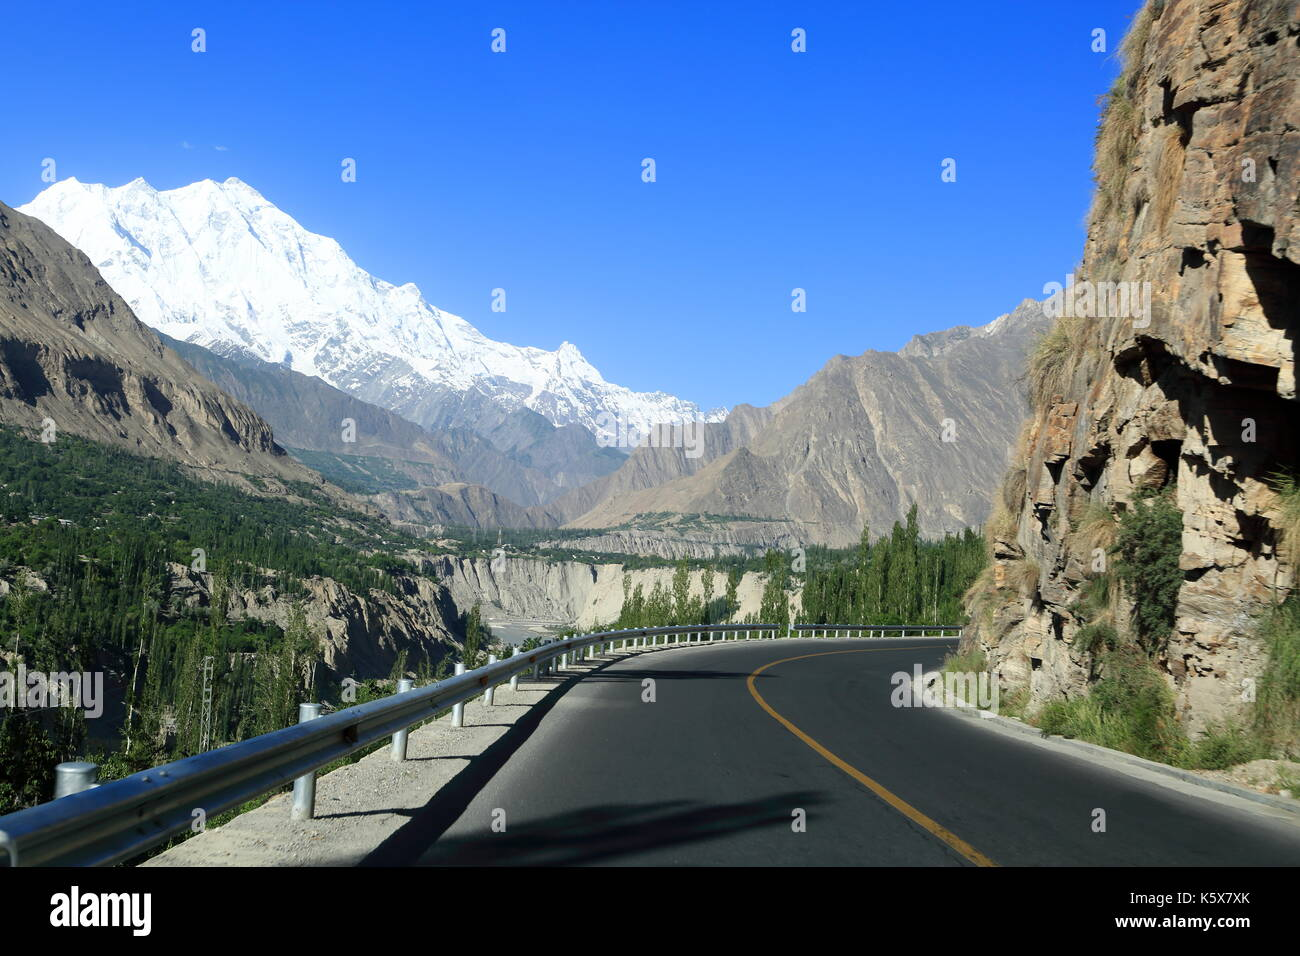rightTrun: (589, 589, 937, 839)
